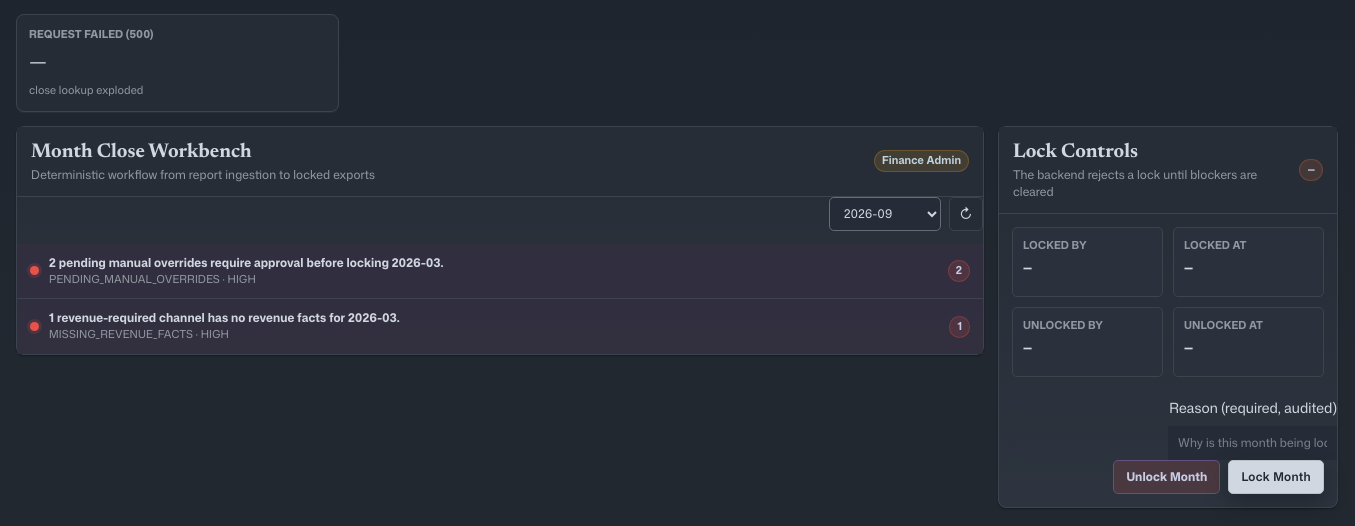
Scenario: CloseView wired to finance-close › does not show the previous month's error after switching months
Expected: the text "Request failed (500)" is shown, [29,26,153,42]
Select "2026-08" in the dropdown named "Month". click: (885, 214)
box: [829,197,941,231]
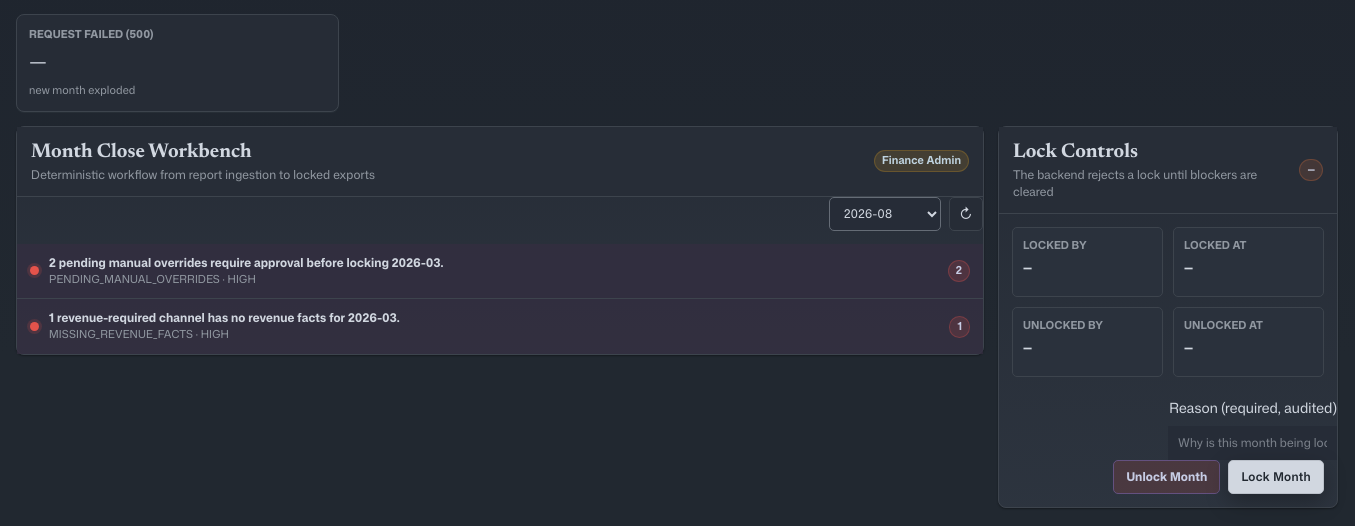
Expected: the text "Request failed (500)" is shown, [29,26,153,42]
Expected: the text "close lookup exploded" is gone
Expected: the text "new month exploded" is shown, [29,82,135,98]
